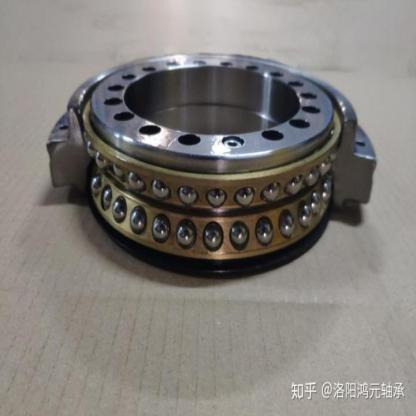FOD: (40, 50, 386, 283)
